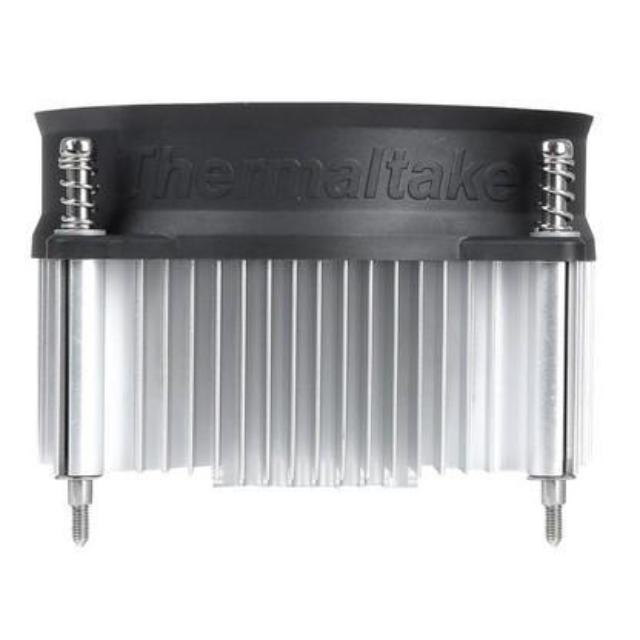CPU_Fan: (34, 103, 602, 508)
